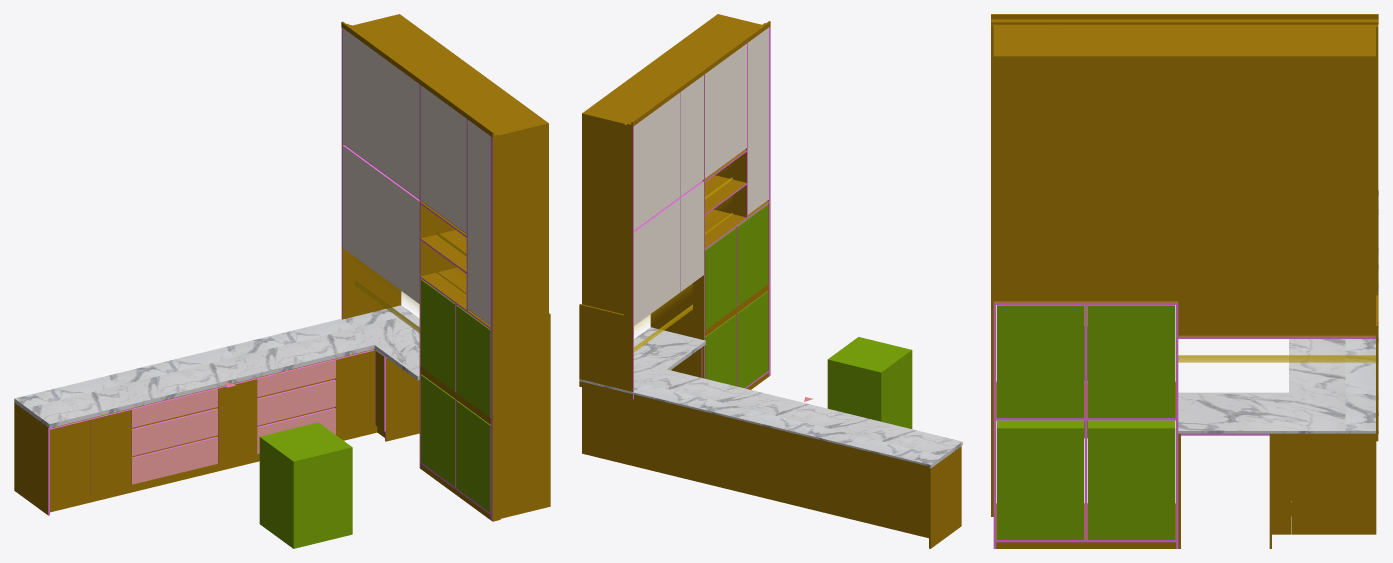
3 views of the same model, side by side, from view 1: azimuth 30°, elevation 25°; view 2: azimuth 150°, elevation 25°; view 3: azimuth 270°, elevation 25° (orthographic). The views are drawn at different scales.
Parts seen in each view (by area): view 1: Geom3D (×3), Geom3D_ABF_PART_319____LYR_[_THÙNG]__Tủ máy giặt - md dưới -, Geom3D_ABF_PART_317____LYR_[_THÙNG]__Tủ máy giặt - md trên -, Geom3D_ABF_PART_309____LYR_[_CÁNH]__Tủ máy giặt - Cánh phải , Geom3D_ABF_PART_331____LYR_[_THÙNG]__Tủ máy giặt - md giữa -, Geom3D_ABF_PART_295____LYR_[_THÙNG]__Bếp áp trần - Nóc, Geom3D_ABF_PART_330____LYR_[_THÙNG]__Tủ máy giặt - md trên -, Geom3D_ABF_PART_339____LYR_[_CÁNH]__Bếp áp trần - Cánh trái , Geom3D_ABF_PART_350____LYR_[_THÙNG]__Bếp dưới 1 - Ốp hông, Geom3D_ABF_PART_362____LYR_[_CÁNH]__Bếp dưới 1 - Cánh trái (, Geom3D_ABF_PART_361____LYR_[_CÁNH]__Bếp dưới 1 - Cánh phải (, Geom3D_ABF_PART_360____LYR_[_CÁNH]__Bếp dưới 1 - Cánh trái ( (+24 smaller); view 2: Geom3D (×3), Geom3D_ABF_PART_352____LYR_[_HẬU]__Bếp dưới 1 - Hậu, Geom3D_ABF_PART_283____LYR_[_HẬU]__Bếp dưới 2 - Hậu, Geom3D_ABF_PART_292____LYR_[_THÙNG]__Bếp áp trần - Hông trái, Geom3D_ABF_PART_297____LYR_[_CHỈ_NẸP]__Bếp trên - Chỉ nóc, Geom3D_ABF_PART_309____LYR_[_CÁNH]__Tủ máy giặt - Cánh phải , Geom3D_ABF_PART_288____LYR_[_THÙNG]__Bếp trên - Hông trái, Geom3D_ABF_PART_295____LYR_[_THÙNG]__Bếp áp trần - Nóc, Geom3D_ABF_PART_330____LYR_[_THÙNG]__Tủ máy giặt - md trên -, Geom3D_ABF_PART_350____LYR_[_THÙNG]__Bếp dưới 1 - Ốp hông, Geom3D_ABF_PART_339____LYR_[_CÁNH]__Bếp áp trần - Cánh trái , Geom3D_ABF_PART_338____LYR_[_CÁNH]__Bếp áp trần - Cánh trái  (+14 smaller); view 3: Geom3D (×9), Geom3D_ABF_PART_414____LYR_[_HẬU]__Bếp áp trần - Hậu, Geom3D_ABF_PART_413____LYR_[_HẬU]__Bếp trên - Hậu, Geom3D_ABF_PART_347____LYR_[_HẬU]__Tủ máy giặt - md trên - H, Geom3D_ABF_PART_346____LYR_[_HẬU]__Tủ máy giặt - md giữa - H, Geom3D_ABF_PART_308____LYR_[_HẬU]__Tủ máy giặt - md trên - H, Geom3D_ABF_PART_281____LYR_[_THÙNG]__Bếp dưới 2 - Hông phải, Geom3D_ABF_PART_295____LYR_[_THÙNG]__Bếp áp trần - Nóc, Geom3D_ABF_PART_412____LYR_[_HẬU]__Tủ máy giặt - md giữa - H, Geom3D_ABF_PART_330____LYR_[_THÙNG]__Tủ máy giặt - md trên -, Geom3D_ABF_PART_275____LYR_[_HẬU]__Bếp dưới 3 - Hậu, Geom3D_Bếp trên - led_light (+8 smaller).
Boxes of the visible parts, x1,y1,x2,y2 form: Geom3D (×3): [14, 279, 490, 548]; Geom3D_ABF_PART_319____LYR_[_THÙNG]__Tủ máy giặt - md dưới -: [500, 313, 550, 518]; Geom3D_ABF_PART_317____LYR_[_THÙNG]__Tủ máy giặt - md trên -: [499, 123, 547, 251]; Geom3D_ABF_PART_309____LYR_[_CÁNH]__Tủ máy giặt - Cánh phải : [467, 120, 490, 325]; Geom3D_ABF_PART_331____LYR_[_THÙNG]__Tủ máy giặt - md giữa -: [500, 241, 547, 326]; Geom3D_ABF_PART_295____LYR_[_THÙNG]__Bếp áp trần - Nóc: [352, 15, 473, 81]; Geom3D_ABF_PART_330____LYR_[_THÙNG]__Tủ máy giặt - md trên -: [429, 71, 545, 134]; Geom3D_ABF_PART_339____LYR_[_CÁNH]__Bếp áp trần - Cánh trái : [342, 28, 368, 161]; Geom3D_ABF_PART_350____LYR_[_THÙNG]__Bếp dưới 1 - Ốp hông: [14, 403, 48, 515]; Geom3D_ABF_PART_362____LYR_[_CÁNH]__Bếp dưới 1 - Cánh trái (: [50, 420, 90, 504]; Geom3D_ABF_PART_361____LYR_[_CÁNH]__Bếp dưới 1 - Cánh phải (: [91, 410, 131, 494]; Geom3D_ABF_PART_360____LYR_[_CÁNH]__Bếp dưới 1 - Cánh trái (: [218, 379, 257, 463]; Geom3D (×3): [579, 204, 962, 468]; Geom3D_ABF_PART_352____LYR_[_HẬU]__Bếp dưới 1 - Hậu: [741, 420, 928, 538]; Geom3D_ABF_PART_283____LYR_[_HẬU]__Bếp dưới 2 - Hậu: [582, 387, 741, 492]; Geom3D_ABF_PART_292____LYR_[_THÙNG]__Bếp áp trần - Hông trái: [583, 113, 626, 230]; Geom3D_ABF_PART_297____LYR_[_CHỈ_NẸP]__Bếp trên - Chỉ nóc: [579, 304, 632, 399]; Geom3D_ABF_PART_309____LYR_[_CÁNH]__Tủ máy giặt - Cánh phải : [748, 27, 768, 214]; Geom3D_ABF_PART_288____LYR_[_THÙNG]__Bếp trên - Hông trái: [583, 220, 624, 314]; Geom3D_ABF_PART_295____LYR_[_THÙNG]__Bếp áp trần - Nóc: [584, 63, 695, 123]; Geom3D_ABF_PART_330____LYR_[_THÙNG]__Tủ máy giặt - md trên -: [655, 15, 760, 71]; Geom3D_ABF_PART_350____LYR_[_THÙNG]__Bếp dưới 1 - Ốp hông: [929, 446, 961, 548]; Geom3D_ABF_PART_339____LYR_[_CÁNH]__Bếp áp trần - Cánh trái : [634, 109, 657, 230]; Geom3D_ABF_PART_338____LYR_[_CÁNH]__Bếp áp trần - Cánh trái : [657, 92, 680, 212]; Geom3D (×9): [993, 189, 1378, 548]; Geom3D_ABF_PART_414____LYR_[_HẬU]__Bếp áp trần - Hậu: [1178, 55, 1375, 206]; Geom3D_ABF_PART_413____LYR_[_HẬU]__Bếp trên - Hậu: [1178, 206, 1375, 335]; Geom3D_ABF_PART_347____LYR_[_HẬU]__Tủ máy giặt - md trên - H: [1056, 55, 1178, 206]; Geom3D_ABF_PART_346____LYR_[_HẬU]__Tủ máy giặt - md giữa - H: [1056, 206, 1178, 301]; Geom3D_ABF_PART_308____LYR_[_HẬU]__Tủ máy giặt - md trên - H: [993, 55, 1056, 206]; Geom3D_ABF_PART_281____LYR_[_THÙNG]__Bếp dưới 2 - Hông phải: [1294, 433, 1373, 532]; Geom3D_ABF_PART_295____LYR_[_THÙNG]__Bếp áp trần - Nóc: [1179, 24, 1374, 55]; Geom3D_ABF_PART_412____LYR_[_HẬU]__Tủ máy giặt - md giữa - H: [993, 206, 1056, 301]; Geom3D_ABF_PART_330____LYR_[_THÙNG]__Tủ máy giặt - md trên -: [996, 24, 1176, 55]; Geom3D_ABF_PART_275____LYR_[_HẬU]__Bếp dưới 3 - Hậu: [1272, 433, 1291, 534]; Geom3D_Bếp trên - led_light: [1178, 355, 1375, 362].
Bounding box in the file's own units: 3.93 × 3.79 × 2.67.
10 materials, 2 textured.
